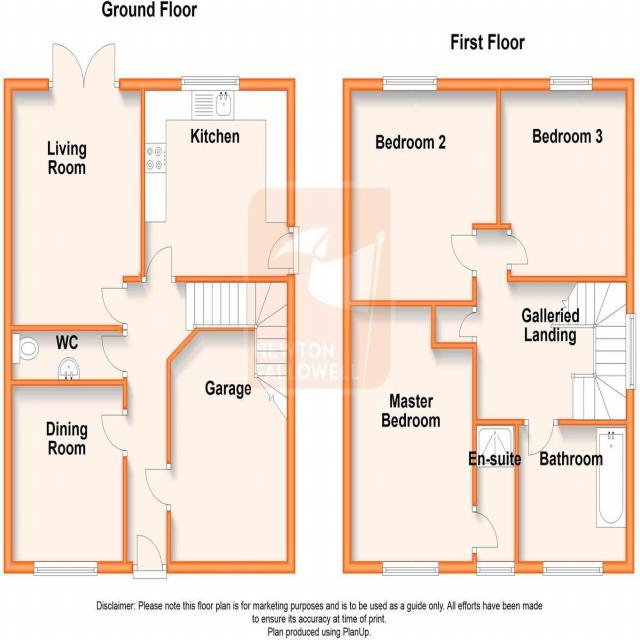DOOR: (133, 532, 167, 579), (266, 226, 299, 274), (449, 228, 477, 278), (472, 505, 500, 553), (142, 244, 176, 283), (100, 408, 127, 457), (99, 282, 127, 329), (100, 330, 127, 378), (524, 419, 558, 457), (145, 463, 171, 511), (507, 228, 529, 271)
DOUBLE DOOR: (45, 34, 121, 89)
ROOM: (343, 300, 503, 575), (3, 34, 146, 331), (343, 77, 501, 308), (141, 74, 300, 282), (496, 78, 635, 313), (4, 378, 128, 574), (32, 558, 100, 579)
WINDOW: (179, 73, 242, 94), (542, 559, 604, 578), (380, 559, 440, 578), (382, 74, 439, 93), (625, 313, 637, 392), (548, 73, 594, 93), (476, 560, 516, 578)
